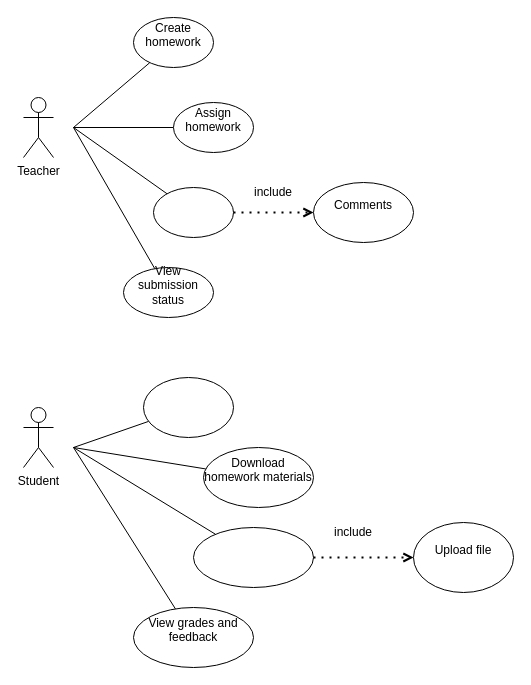
Image size: 531x685. Some labels were removed from this diagram. The shapes that lost their labels are listed below. From the top down, each one's box as (x1, y1, x2, y2) in pixels, then its label:
(152, 186, 234, 238): Grade homework
(142, 376, 234, 438): View assigned homework
(192, 526, 314, 588): Submit homework
